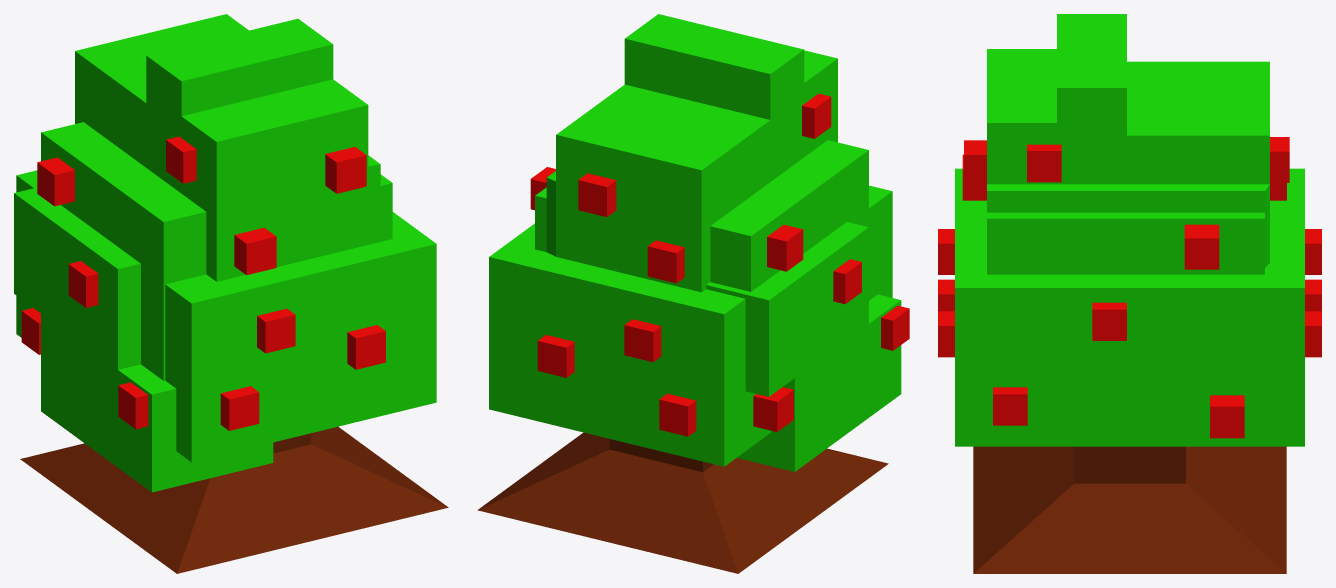
File: Bush.glb
3 renders of one model, left to right at view 1: azimuth 30°, elevation 25°; view 2: azimuth 150°, elevation 25°; view 3: azimuth 270°, elevation 25°, orthographic. The views are drawn at different scales.
Parts seen in each view (by area): view 1: Cube.001, Cube.003, Cube.015, Cube.002, Cube.005, Cube.011, Cube.010, Cube.004, Cube.008, Cube.012, Cube.009, Cube.006 (+3 smaller); view 2: Cube.001, Cube.003, Cube.015, Cube.002, Cube.005, Cube.004, Cube.014, Cube.013, Cube.012, Cube.008, Cube.011, Cube.009 (+3 smaller); view 3: Cube.003, Cube.001, Cube.015, Cube.004, Cube.009, Cube.012, Cube.014, Cube, Cube.006, Cube.007, Cube.008, Cube.010 (+2 smaller).
Boxes of the visible parts, left/top/right/bottom form: Cube.001: left=75, top=14, right=392, bottom=281; Cube.003: left=16, top=170, right=436, bottom=462; Cube.015: left=20, top=426, right=448, bottom=573; Cube.002: left=14, top=187, right=273, bottom=492; Cube.005: left=41, top=122, right=206, bottom=380; Cube.011: left=234, top=227, right=276, bottom=275; Cube.010: left=325, top=147, right=366, bottom=193; Cube.004: left=37, top=157, right=74, bottom=206; Cube.008: left=220, top=386, right=259, bottom=430; Cube.012: left=257, top=308, right=295, bottom=353; Cube.009: left=347, top=325, right=385, bottom=369; Cube.006: left=166, top=136, right=196, bottom=183; Cube.001: left=535, top=14, right=837, bottom=292; Cube.003: left=489, top=185, right=892, bottom=466; Cube.015: left=477, top=432, right=888, bottom=573; Cube.002: left=706, top=222, right=901, bottom=471; Cube.005: left=710, top=140, right=868, bottom=291; Cube.004: left=530, top=167, right=803, bottom=271; Cube.014: left=753, top=387, right=793, bottom=431; Cube.013: left=578, top=173, right=616, bottom=216; Cube.012: left=624, top=319, right=661, bottom=362; Cube.008: left=659, top=393, right=696, bottom=436; Cube.011: left=647, top=240, right=684, bottom=283; Cube.009: left=537, top=335, right=574, bottom=377; Cube.003: left=955, top=168, right=1304, bottom=446; Cube.001: left=987, top=14, right=1269, bottom=274; Cube.015: left=973, top=446, right=1286, bottom=573; Cube.004: left=1184, top=224, right=1219, bottom=269; Cube.009: left=938, top=311, right=1321, bottom=357; Cube.012: left=938, top=229, right=1321, bottom=274; Cube.014: left=1210, top=395, right=1244, bottom=438; Cube: left=1092, top=302, right=1126, bottom=340; Cube.006: left=1027, top=144, right=1061, bottom=182; Cube.007: left=993, top=387, right=1027, bottom=425; Cube.008: left=938, top=279, right=1321, bottom=311; Cube.010: left=964, top=140, right=986, bottom=186.
Bounding box in the file's own units: 2.01 × 2.84 × 2.19.
